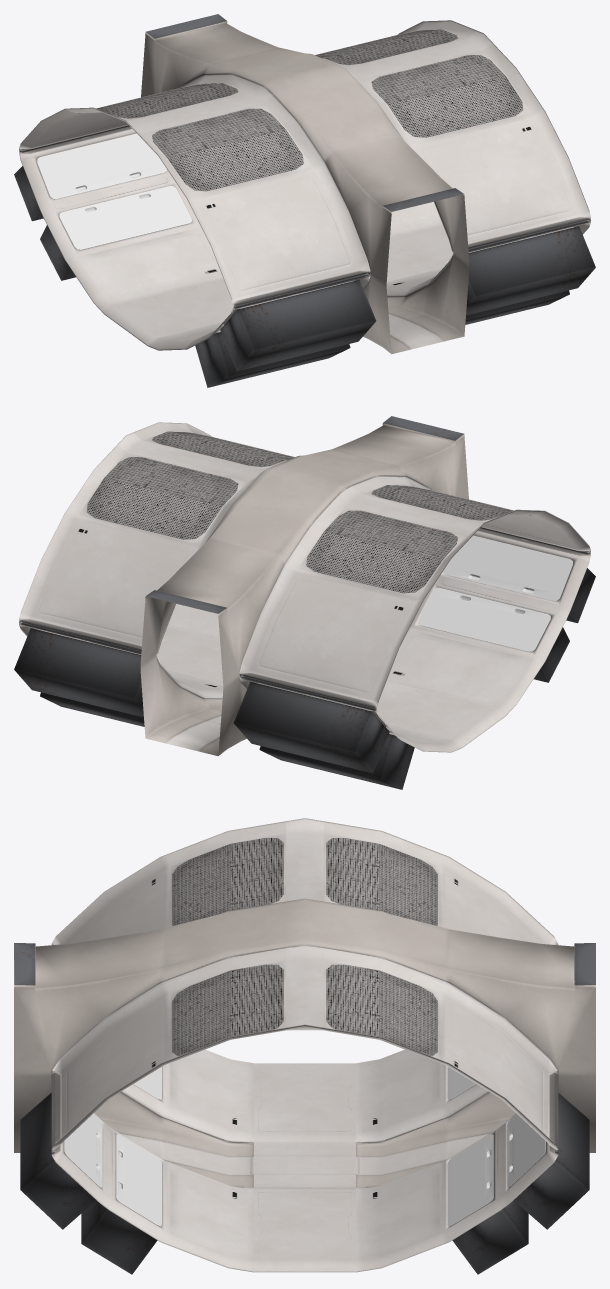
Rendered from SM_DormHall.fbx.
3 views of the same model, one above another, from view 1: azimuth 30°, elevation 25°; view 2: azimuth 150°, elevation 25°; view 3: azimuth 270°, elevation 25° (orthographic). The views are drawn at different scales.
Visible parts, largest first — view 1: hall.002, door.008, door.009; view 2: hall.002, door.004, door.005; view 3: hall.002, door.007, door.003, door.006, door.002.
Boxes of the visible parts, bbox=[...] form: hall.002: bbox=[14, 14, 595, 387]; door.008: bbox=[36, 133, 166, 199]; door.009: bbox=[58, 185, 191, 249]; hall.002: bbox=[14, 416, 595, 789]; door.004: bbox=[443, 535, 573, 601]; door.005: bbox=[418, 587, 551, 651]; hall.002: bbox=[14, 818, 595, 1274]; door.007: bbox=[448, 1134, 493, 1226]; door.003: bbox=[116, 1134, 161, 1226]; door.006: bbox=[507, 1113, 545, 1187]; door.002: bbox=[64, 1113, 102, 1187].
Size of the model in its own units: 547 by 317 by 651.
